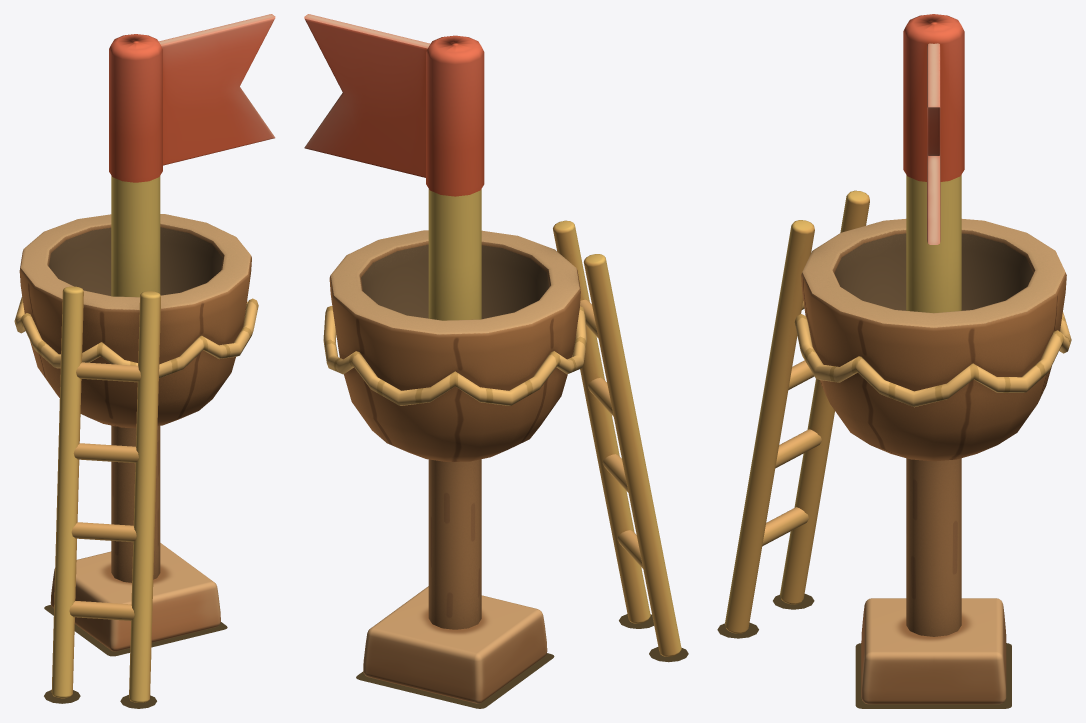
Rendered from Lighthouse.fbx.
3 renders of one model, left to right at view 1: azimuth 30°, elevation 25°; view 2: azimuth 150°, elevation 25°; view 3: azimuth 270°, elevation 25°, orthographic. The views are drawn at different scales.
Parts seen in each view (by area): view 1: pCylinder74, pCylinder76, polySurface72, polySurface78; view 2: pCylinder74, polySurface72, pCylinder76, polySurface78; view 3: pCylinder74, pCylinder76, polySurface72, polySurface78.
Boxes of the visible parts, x1,y1,x2,y2 form: pCylinder74: [14, 176, 258, 651]; pCylinder76: [51, 286, 160, 702]; polySurface72: [109, 14, 275, 182]; polySurface78: [44, 605, 227, 708]; pCylinder74: [323, 189, 586, 703]; polySurface72: [304, 14, 484, 196]; pCylinder76: [553, 220, 681, 656]; polySurface78: [356, 614, 688, 708]; pCylinder74: [794, 175, 1071, 704]; pCylinder76: [725, 190, 869, 633]; polySurface72: [903, 14, 964, 244]; polySurface78: [717, 594, 1011, 708].
Size of the model in its own units: 261 by 496 by 244.
